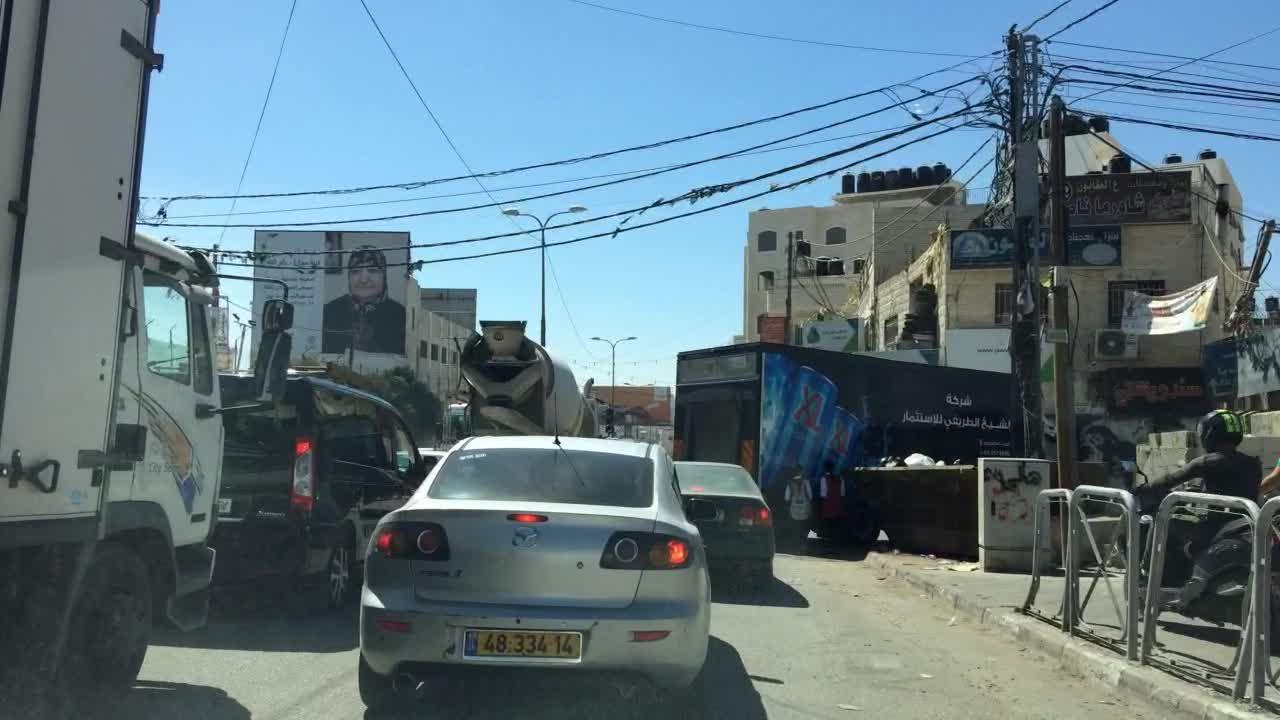Mazda: (506, 523, 545, 558)
